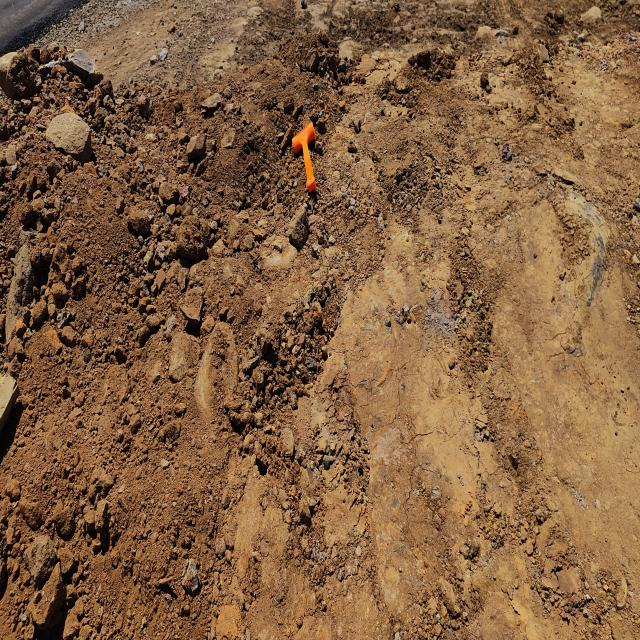Orange_hammer: (291, 120, 317, 194)
